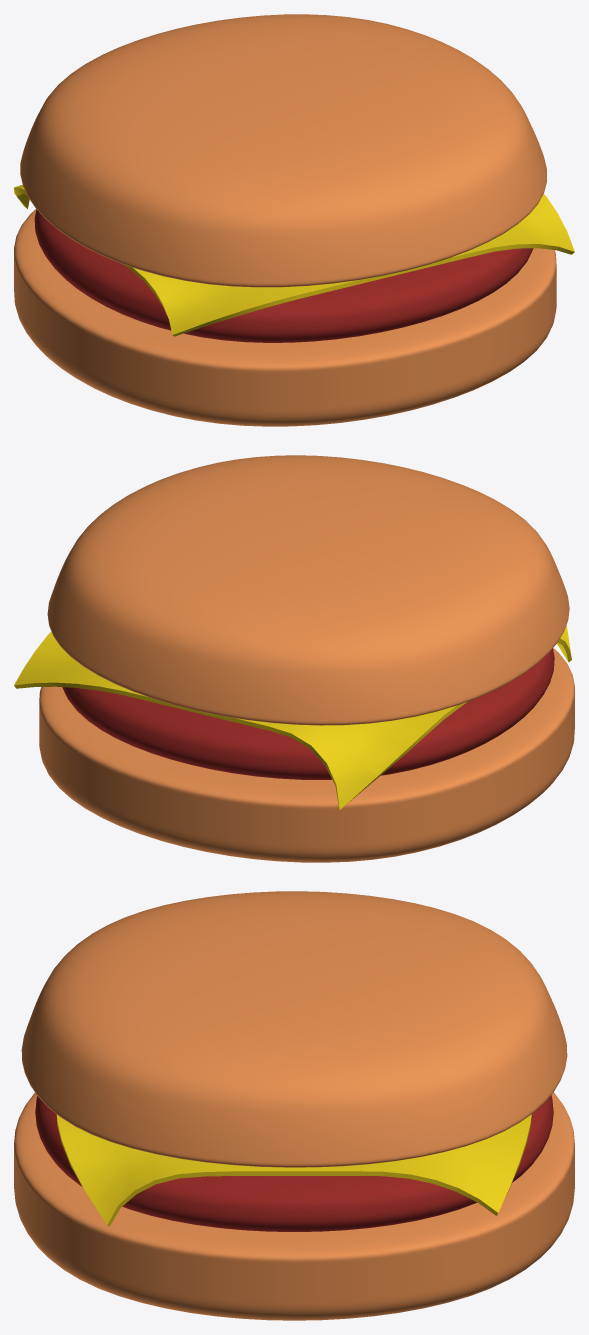
Rendered from hamburger.glb.
The picture shows the model from 3 angles, top to bottom: view 1: azimuth 30°, elevation 25°; view 2: azimuth 150°, elevation 25°; view 3: azimuth 270°, elevation 25°; orthographic projection. The views are drawn at different scales.
Parts seen in each view (by area): view 1: Cube.002, Cube, Cube.001, Plane; view 2: Cube.002, Cube, Cube.001, Plane; view 3: Cube.002, Cube, Cube.001, Plane.
Boxes of the visible parts, bbox=[...] form: Cube.002: bbox=[20, 14, 546, 287]; Cube: bbox=[14, 209, 556, 426]; Cube.001: bbox=[34, 209, 533, 342]; Plane: bbox=[14, 185, 574, 336]; Cube.002: bbox=[47, 455, 569, 725]; Cube: bbox=[39, 648, 574, 862]; Cube.001: bbox=[62, 648, 554, 779]; Plane: bbox=[14, 625, 571, 810]; Cube.002: bbox=[21, 891, 567, 1167]; Cube: bbox=[14, 1092, 574, 1320]; Cube.001: bbox=[35, 1095, 553, 1231]; Plane: bbox=[56, 1114, 531, 1226].
Bounding box in the file's own units: 9.1 × 4.71 × 9.1.
